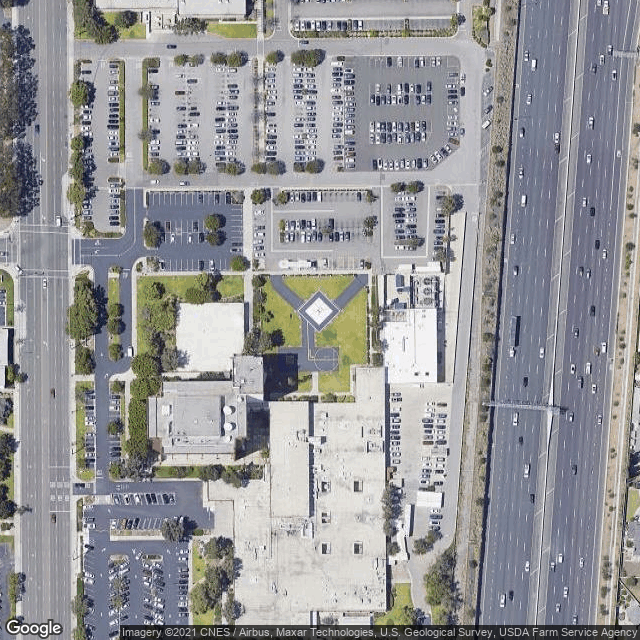Helipad: (293, 288, 346, 332)
